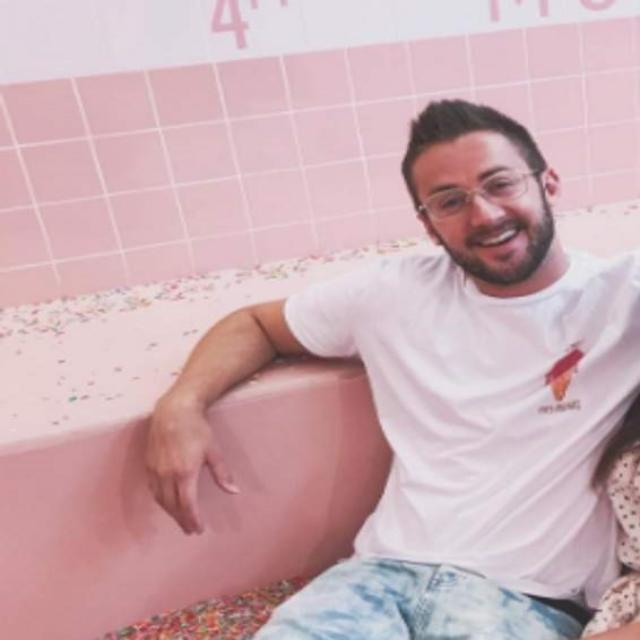human: (146, 91, 640, 640)
